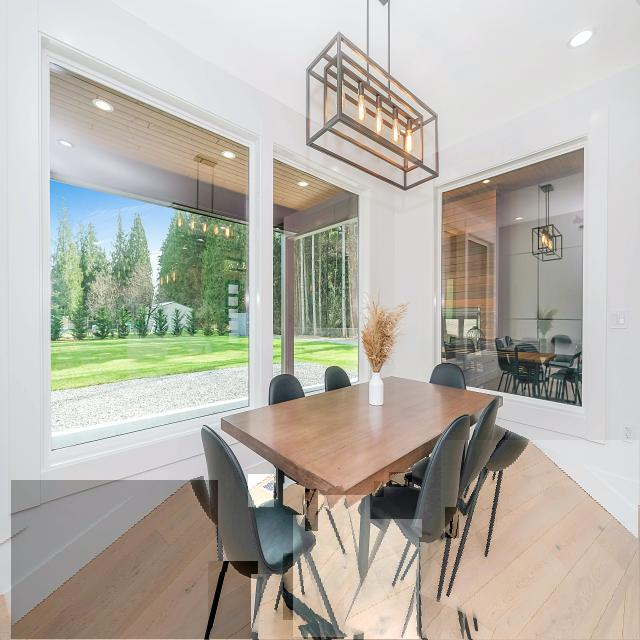floor: (442, 441, 639, 640), (11, 480, 218, 640), (293, 496, 370, 637), (345, 519, 422, 639), (419, 538, 464, 640), (208, 562, 258, 640), (252, 575, 304, 639), (284, 554, 323, 620), (248, 475, 274, 507), (284, 484, 304, 515), (305, 490, 318, 531), (446, 509, 459, 538), (389, 472, 412, 487), (375, 482, 384, 497), (415, 485, 419, 489), (274, 500, 275, 501), (410, 486, 410, 486)
